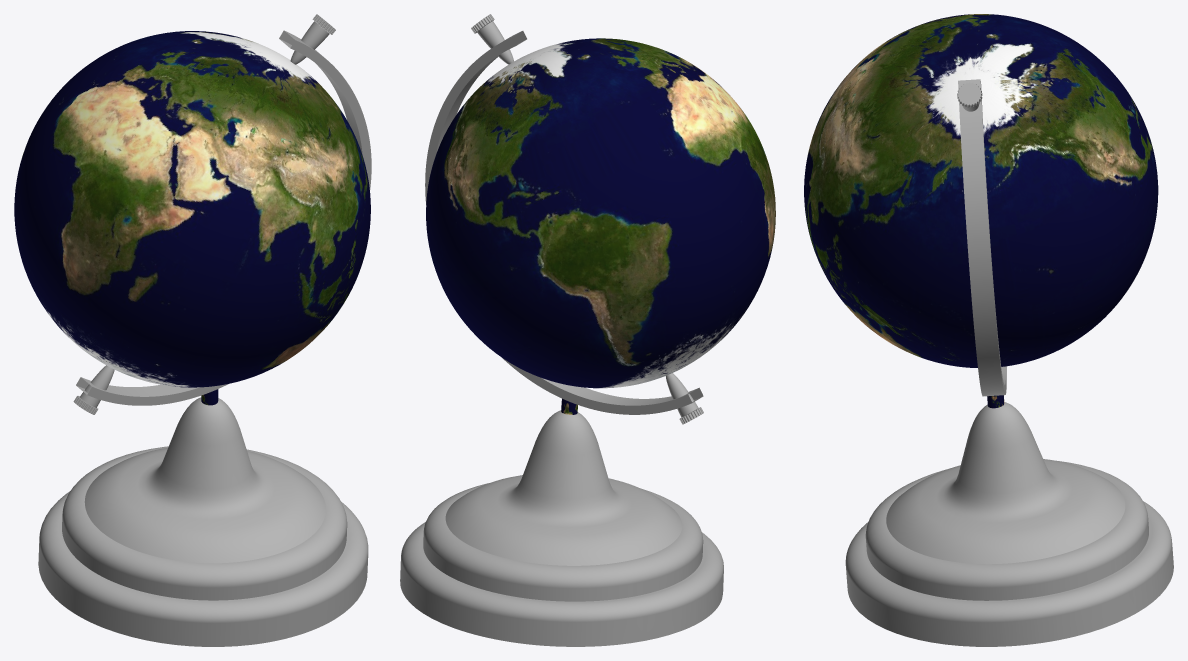
3 renders of one model, left to right at view 1: azimuth 30°, elevation 25°; view 2: azimuth 150°, elevation 25°; view 3: azimuth 270°, elevation 25°, orthographic.
Parts seen in each view (by area): view 1: SM_MERGED_StaticMeshActor_UAID_C4EFBB4DF741A39502_1444224534; view 2: SM_MERGED_StaticMeshActor_UAID_C4EFBB4DF741A39502_1444224534; view 3: SM_MERGED_StaticMeshActor_UAID_C4EFBB4DF741A39502_1444224534.
Boxes of the visible parts, bbox=[...] form: SM_MERGED_StaticMeshActor_UAID_C4EFBB4DF741A39502_1444224534: bbox=[14, 14, 371, 646]; SM_MERGED_StaticMeshActor_UAID_C4EFBB4DF741A39502_1444224534: bbox=[400, 14, 775, 646]; SM_MERGED_StaticMeshActor_UAID_C4EFBB4DF741A39502_1444224534: bbox=[804, 14, 1173, 646].
Size of what is drawn, in the model's own units: 10.99 by 10.82 by 17.79.
